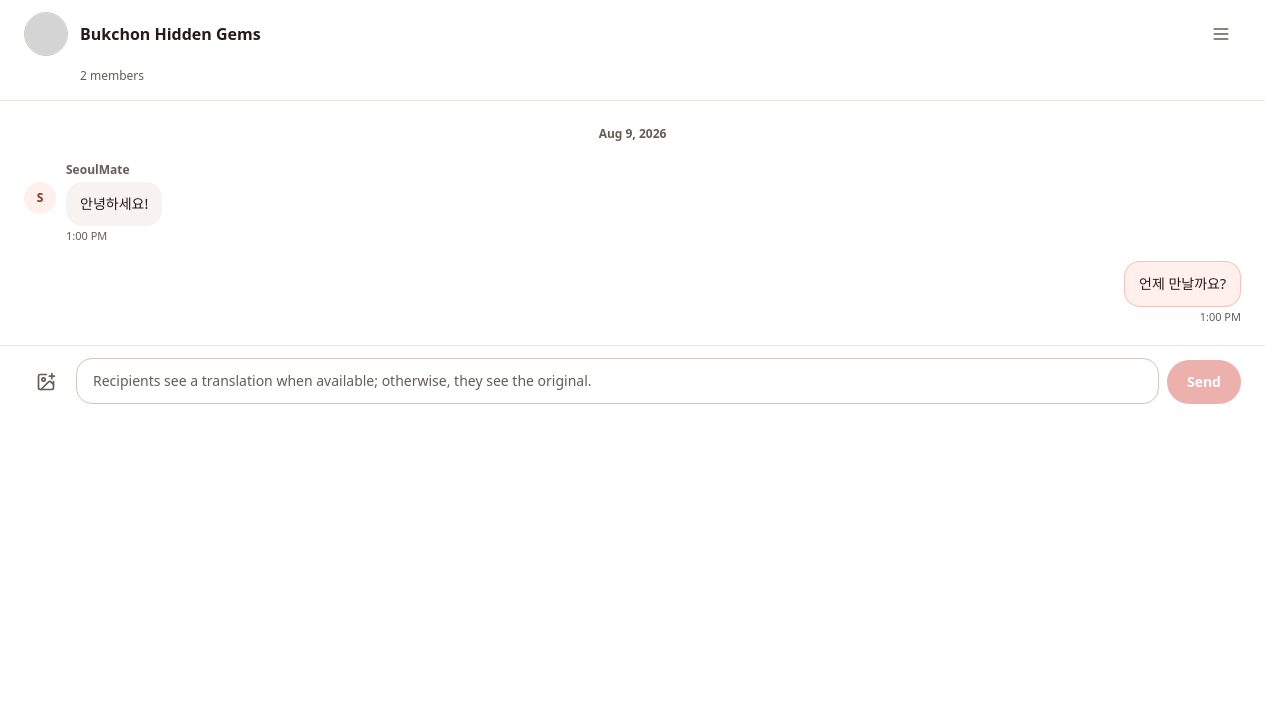
Scenario: ChatRoomView › lists group members in the menu and opens a member profile
// 참여자 수를 눌러도 같은 메뉴가 열린다
Click the button "2 members" at {"x": 112, "y": 76}, box x1=80 y1=64 x2=144 y2=88
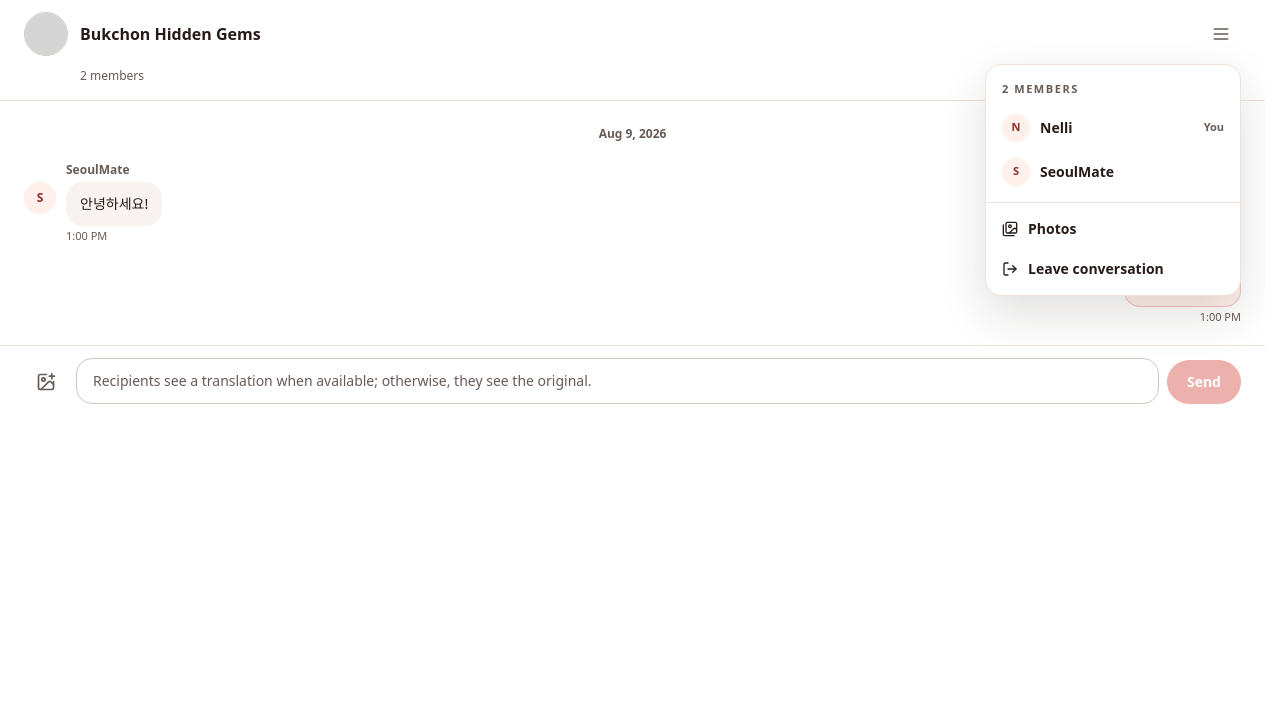
Check: the text "You" is shown, box x1=1204 y1=119 x2=1224 y2=136
Click the button "S SeoulMate" at {"x": 1113, "y": 172}, box x1=986 y1=150 x2=1240 y2=194
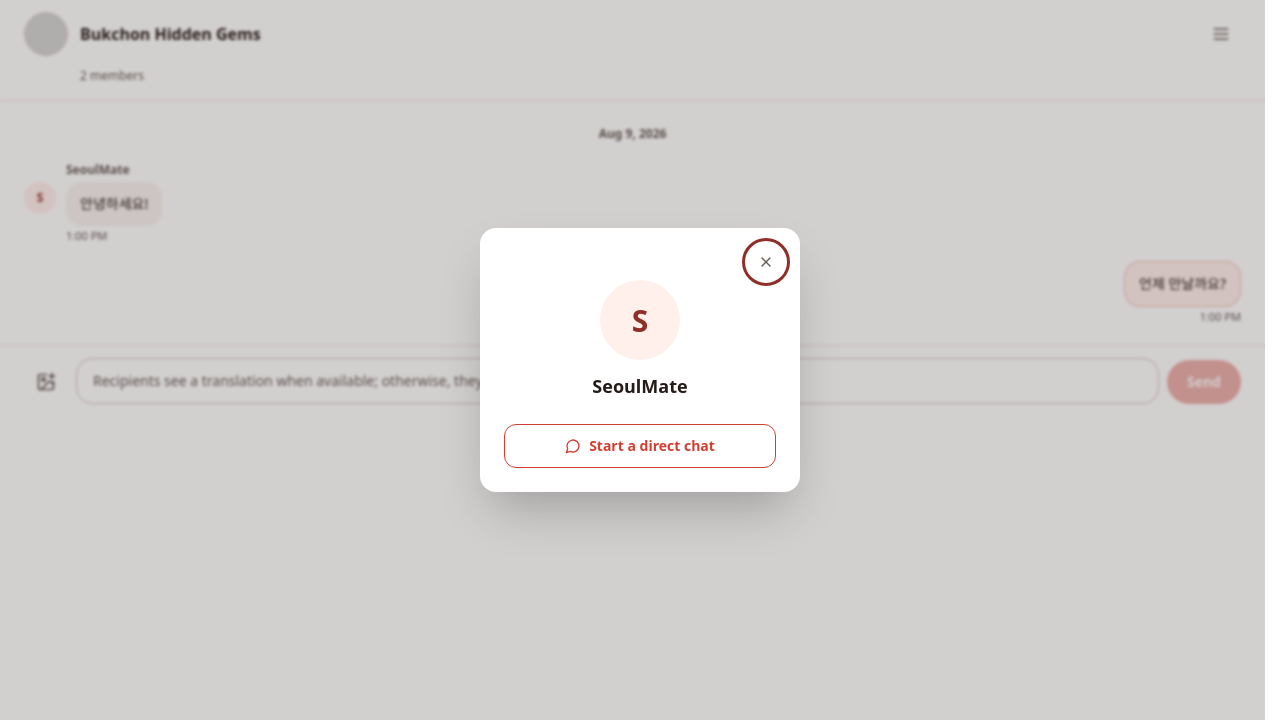
Check: the button "Start a direct chat" is shown, box x1=504 y1=424 x2=776 y2=468
